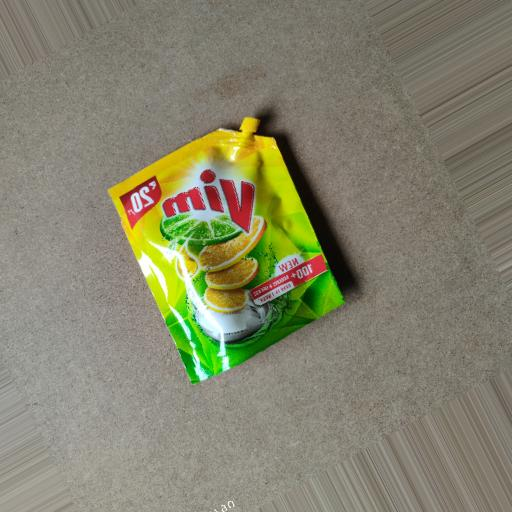VIM Dishwash liquid: (74, 83, 377, 409)
